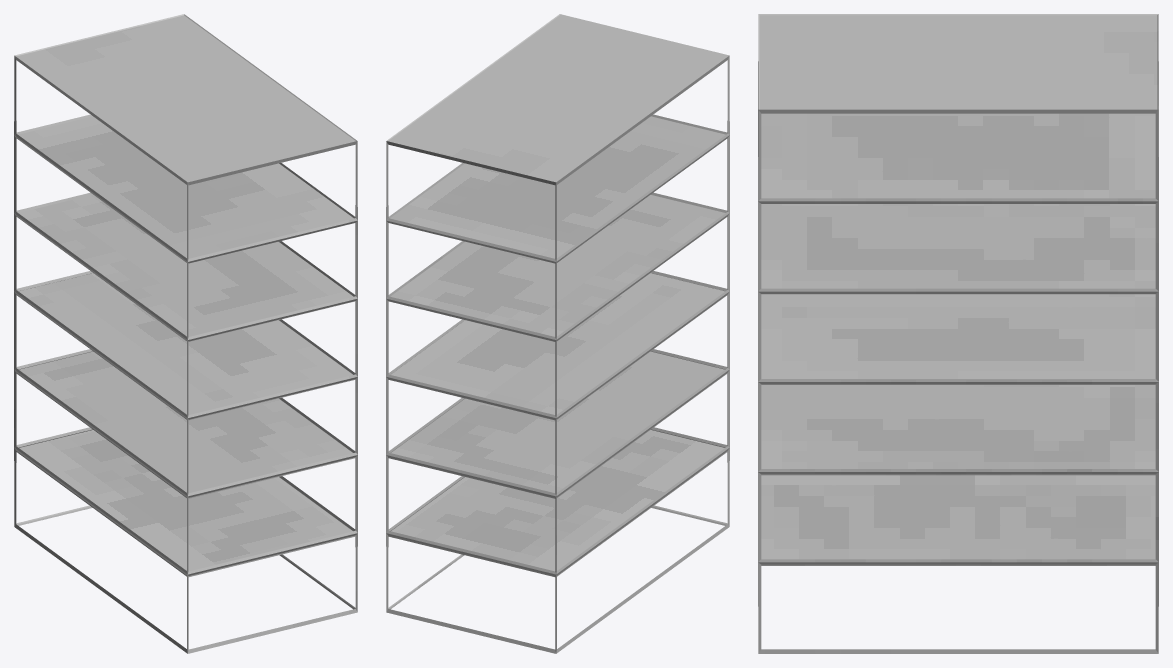
File: wire_shelf.fbx
The picture shows the model from 3 angles, left to right: view 1: azimuth 30°, elevation 25°; view 2: azimuth 150°, elevation 25°; view 3: azimuth 270°, elevation 25°; orthographic projection. The views are drawn at different scales.
Parts seen in each view (by area): view 1: wire shelf; view 2: wire shelf; view 3: wire shelf.
Boxes of the visible parts, box(x1,y1,x2,y2) form: wire shelf: box(14, 14, 357, 653); wire shelf: box(386, 14, 729, 653); wire shelf: box(758, 14, 1158, 653).
Size of the model in its own units: 146 by 387 by 258.
